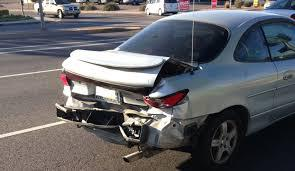boot-dent: (71, 49, 183, 95)
rear-bumper-dent: (65, 100, 145, 138)
